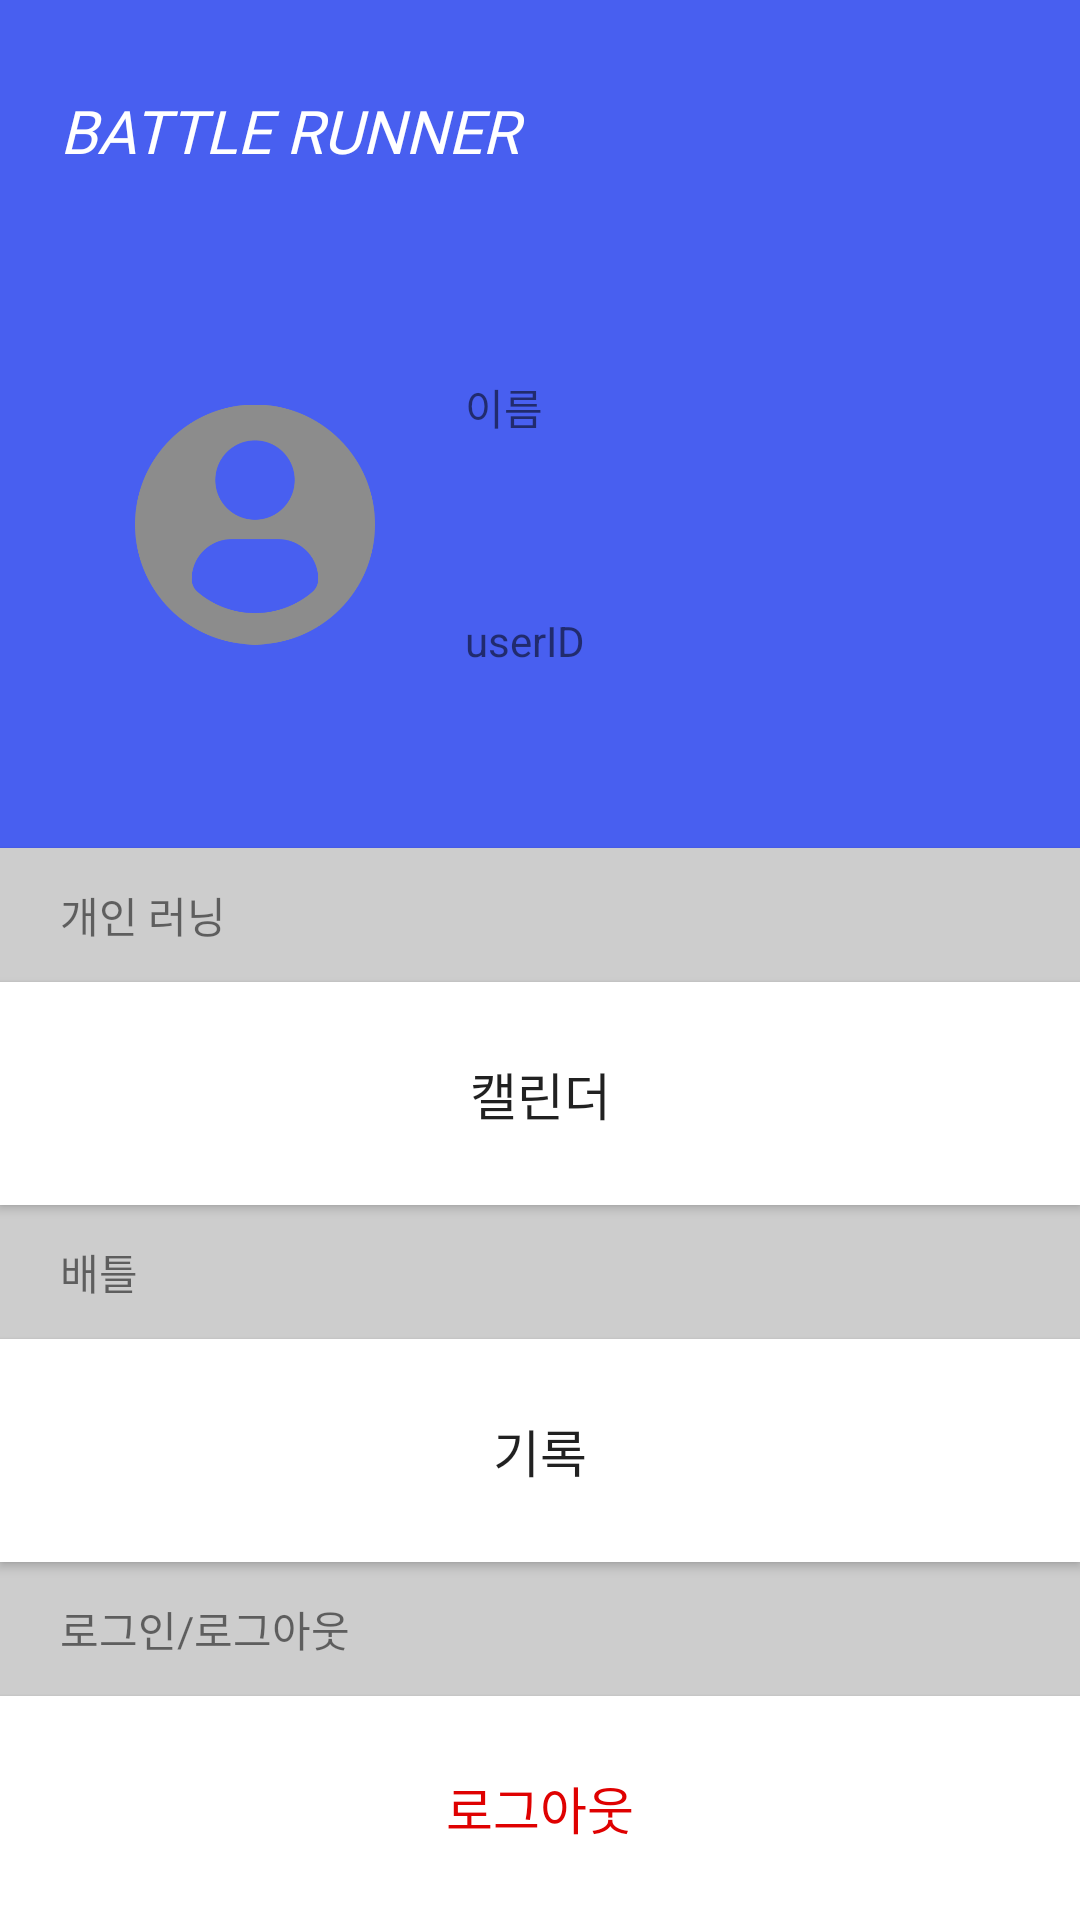

Point at icon controls on the screen. Image size 1080 x 1920, points as (x=x, y=y).
user profile: (x=255, y=525)
